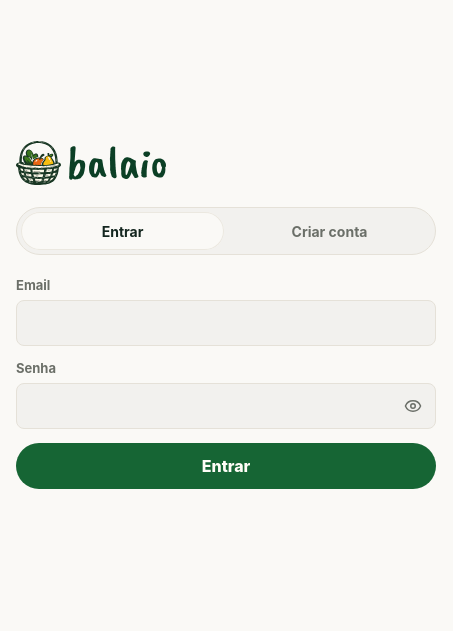
Test: AuthScreen › switches between login and register modes without oauth or forgot password
The image size is (453, 631).
Expected: the 1st button "Entrar" is shown, left=21, top=212, right=224, bottom=250
Step 1. Click the button "Criar conta" → point(330, 232), box left=228, top=212, right=431, bottom=250
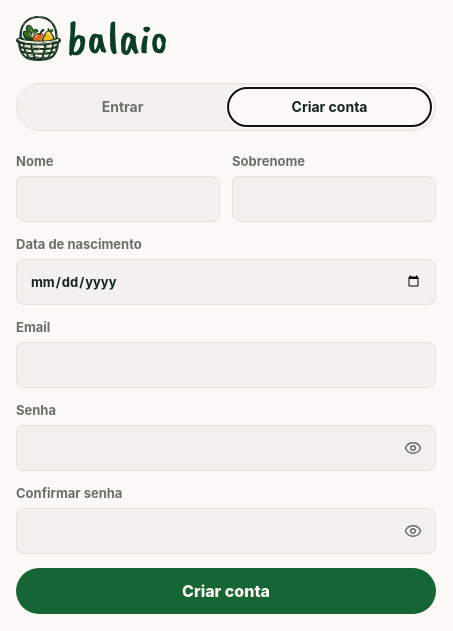
Expected: the field labelled "Nome" is shown, left=16, top=176, right=220, bottom=222
Expected: the field labelled "Sobrenome" is shown, left=232, top=176, right=436, bottom=222
Expected: the date field labelled "Data de nascimento" is shown, left=16, top=259, right=436, bottom=305
